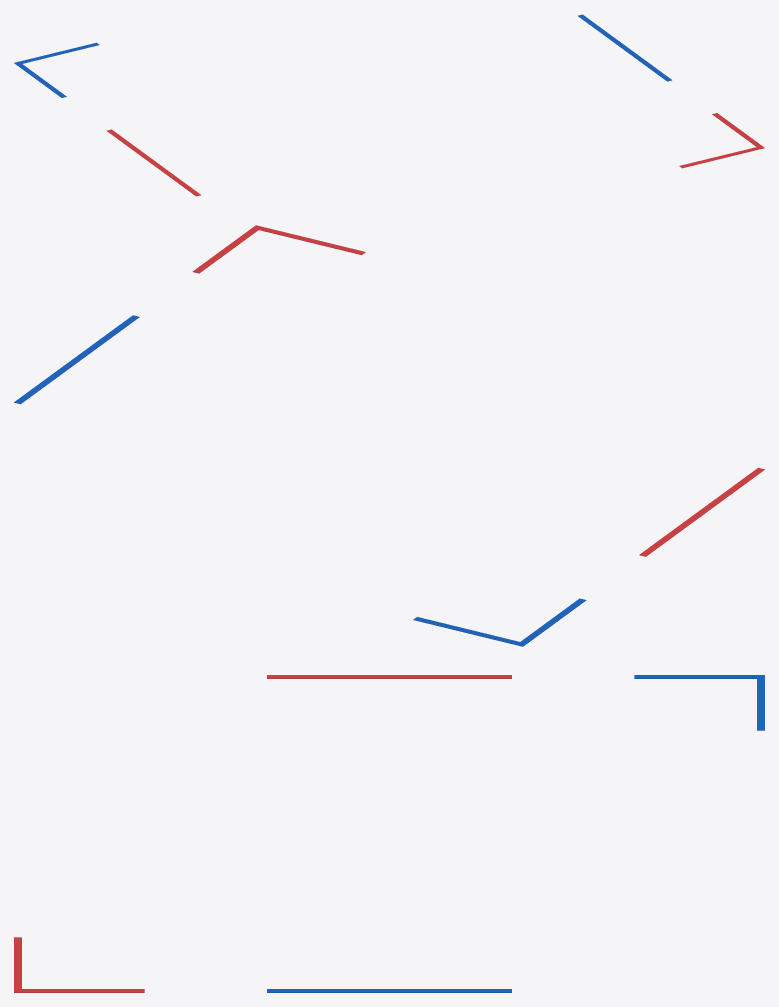
3 renders of one model, top to bottom at view 1: azimuth 30°, elevation 25°; view 2: azimuth 150°, elevation 25°; view 3: azimuth 270°, elevation 25°, orthographic. The views are drawn at different scales.
Bounding box in the file's own units: 93.44 × 0.05 × 93.44.
Materials: 2 (2 with a texture image).
